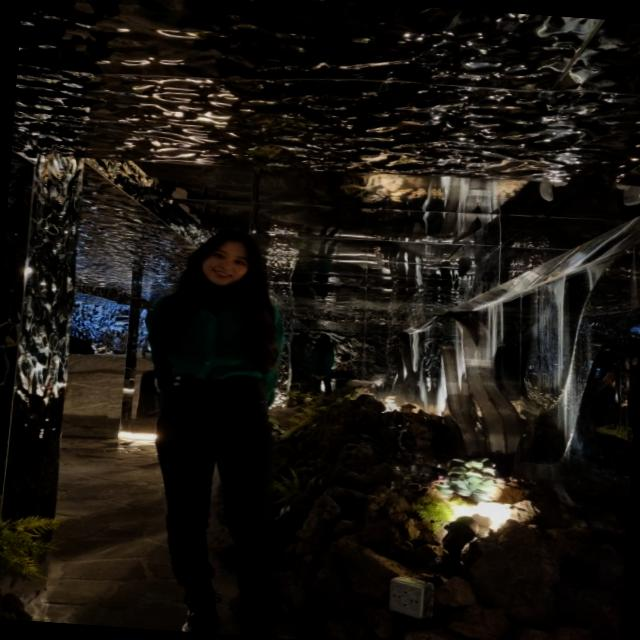cardigan: (147, 284, 287, 408)
denimpants: (138, 382, 299, 638)
